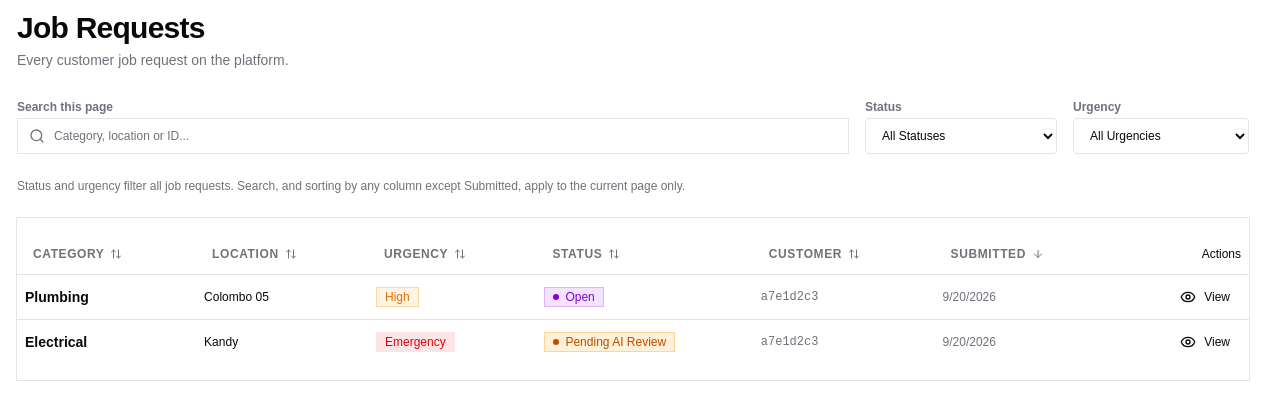
Test case: JobRequestsManagement › searches only within the loaded page
The width and height of the screenshot is (1267, 398).
Expected: the text "Plumbing" is shown, [17,274,196,319]
In the field labelled "Search this page": point(433, 136) [17,118,849,154], type "kandy"
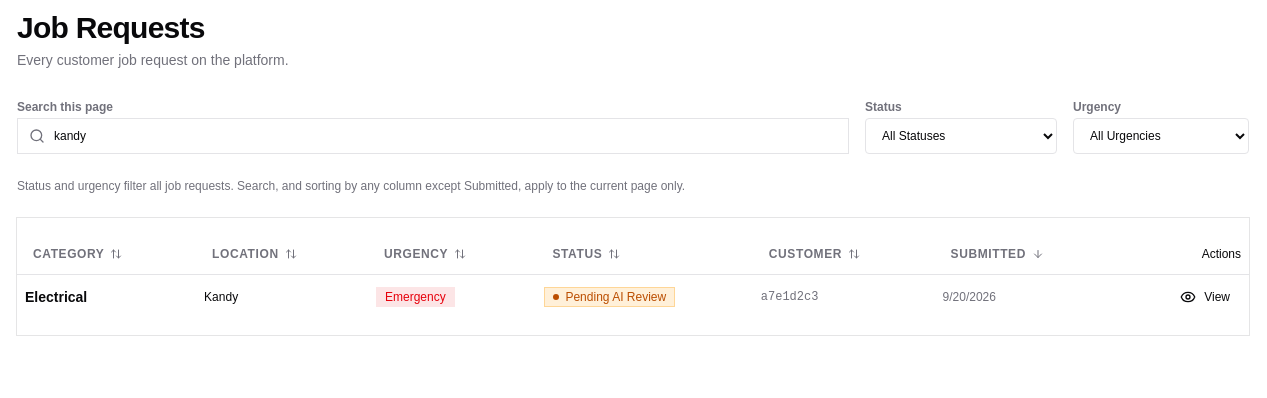
Expected: the text "Electrical" is shown, [17,274,196,318]
Replace the text in the field labelled "Search this page" with "nowhere": point(433, 136) [17,118,849,154]
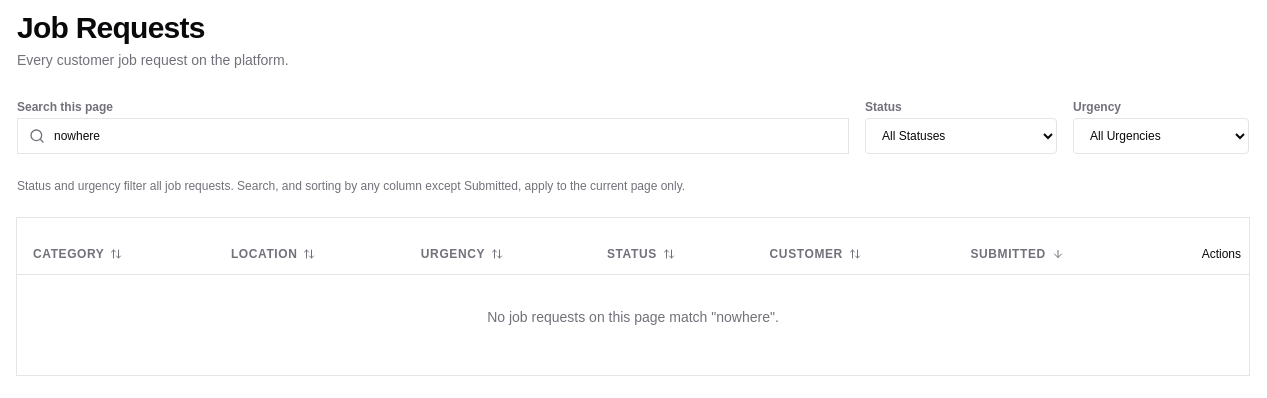
Now the text "No job requests on this page match \"nowhere\"." is shown, box [17,274,1249,358]
